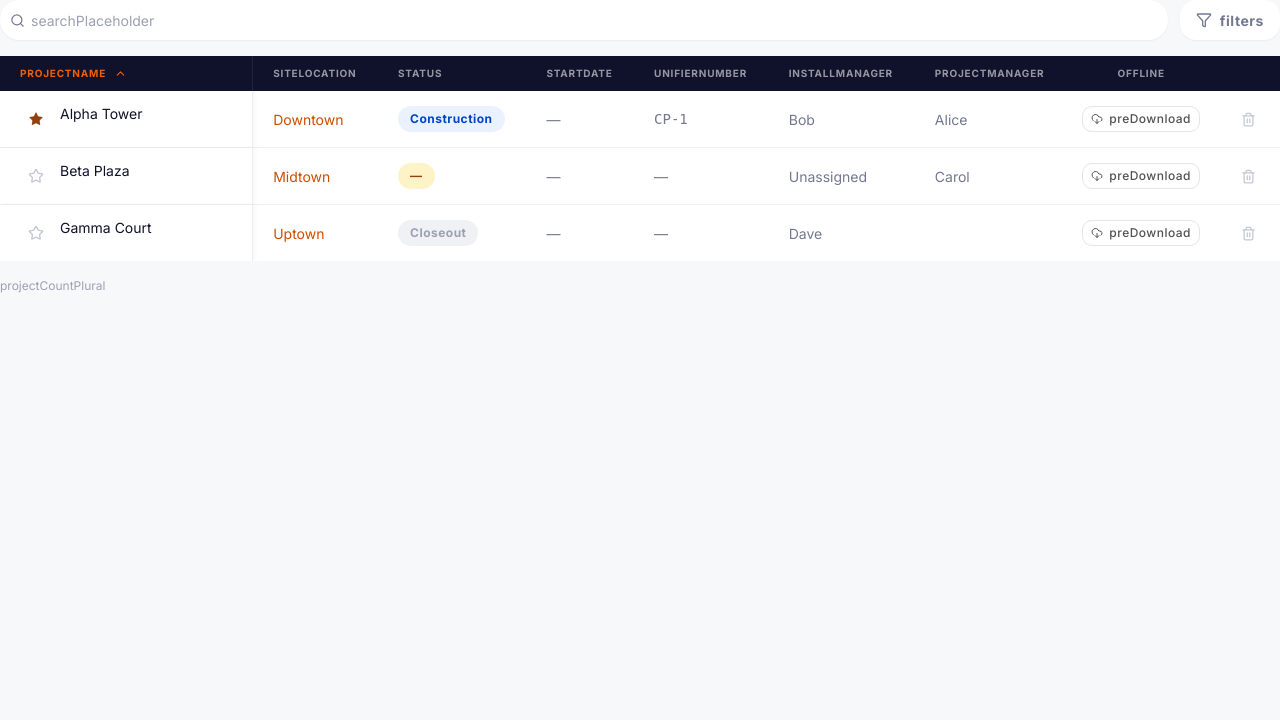
Test case: ProjectsTable › keeps the Submit button disabled until 'delete' is typed
Step 1. Click the button named "Delete Alpha Tower" → (1248, 119), box [1232,103,1264,135]
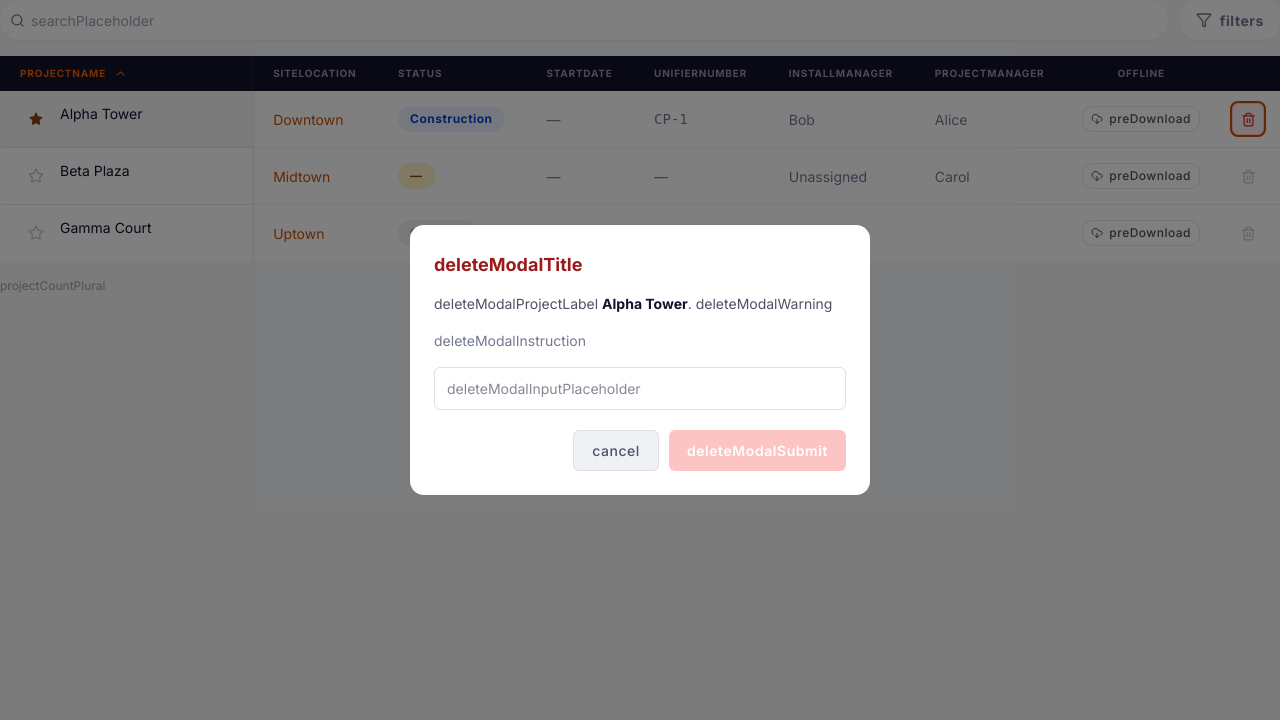
Now the button with aria-label "confirmDeleteAria" is disabled, box [669,430,846,471]
Step 2. Type "delet" into the field named "deleteModalInputLabel" → (640, 388), box [434,367,846,410]
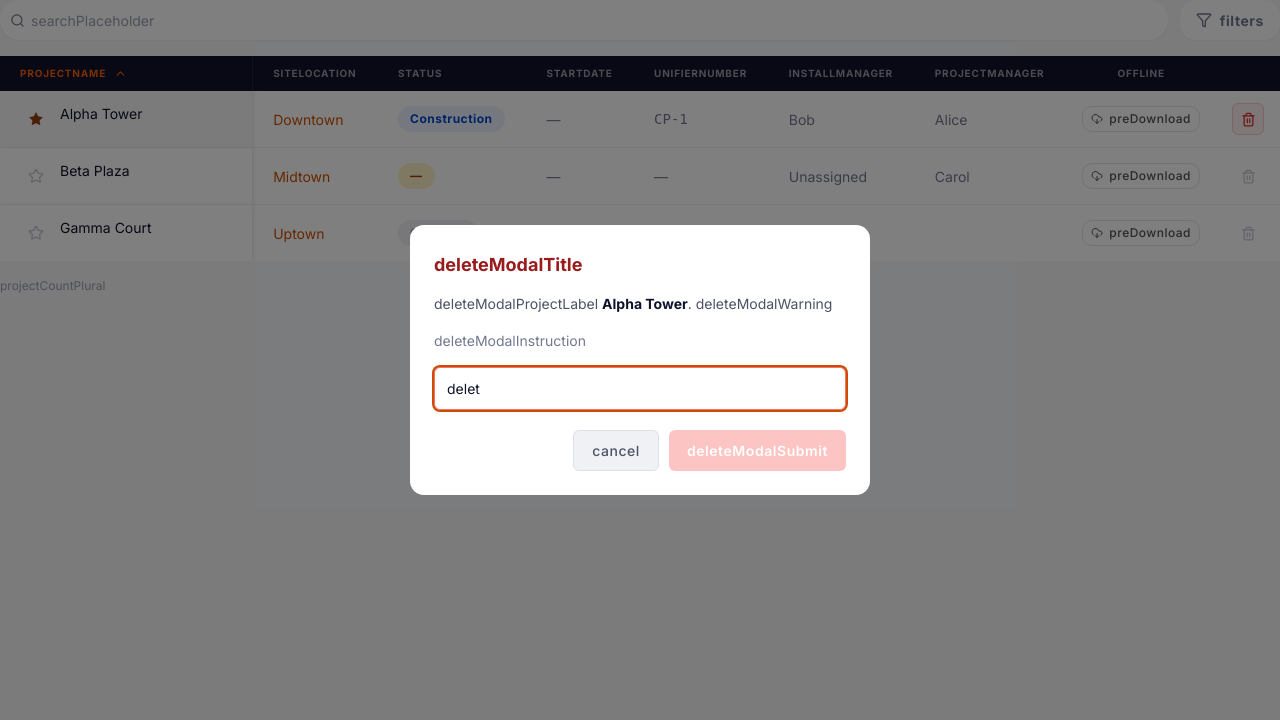
Now the button with aria-label "confirmDeleteAria" is disabled, box [669,430,846,471]
Step 3. Type "e" into the field named "deleteModalInputLabel" → (640, 388), box [434,367,846,410]
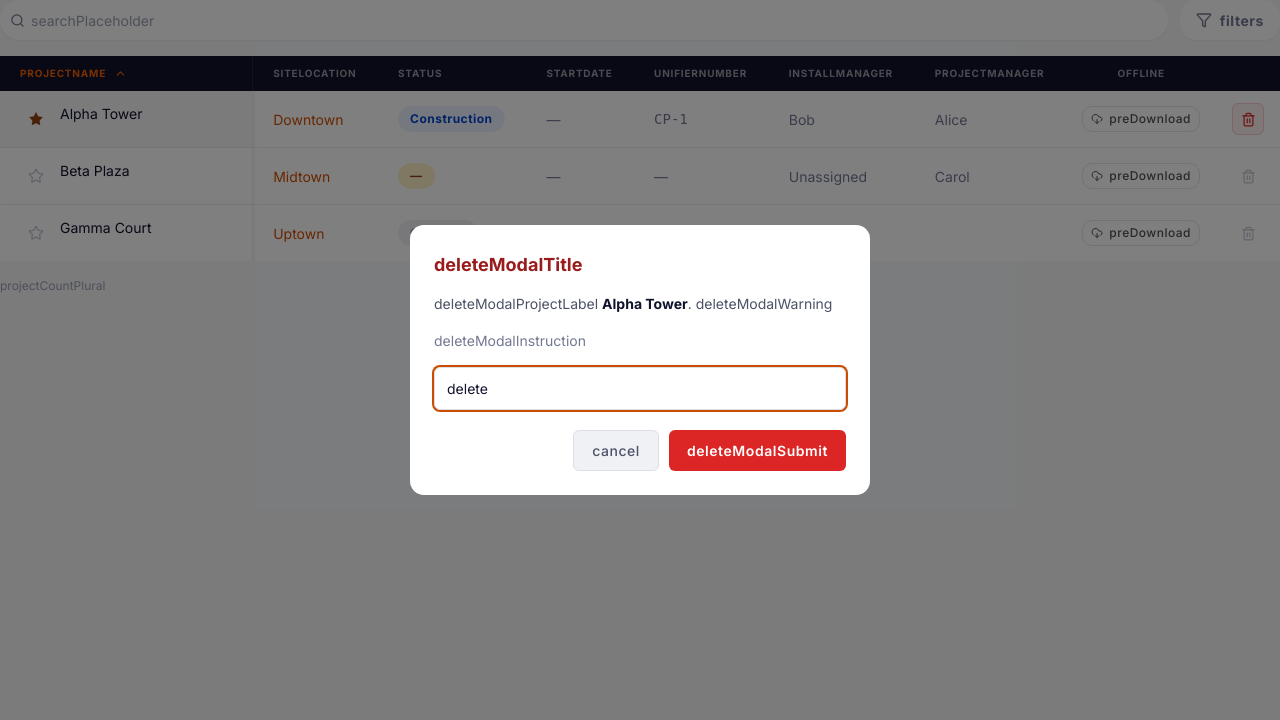
Now the button with aria-label "confirmDeleteAria" is enabled, box [669,430,846,471]
